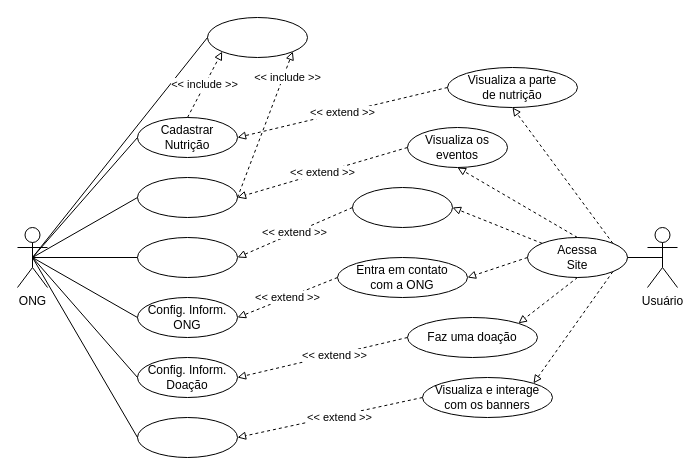
Image size: 700x475. Some labels were removed from this diagram. The shapes that lost their labels are listed below. From the top down, each one's centre as x and y in pixels, then its label:
point (257, 37): Cadastrar Artigos
point (187, 197): Cadastrar Eventos
point (402, 207): Visualiza a galeria
point (187, 257): Cadastrar Galeria
point (187, 437): Cadastra Banners
